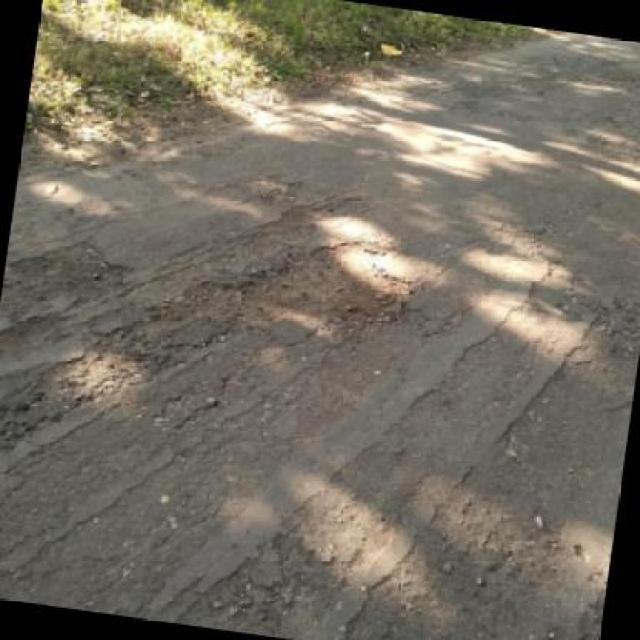pothole: (220, 222, 418, 350), (2, 230, 135, 313)
